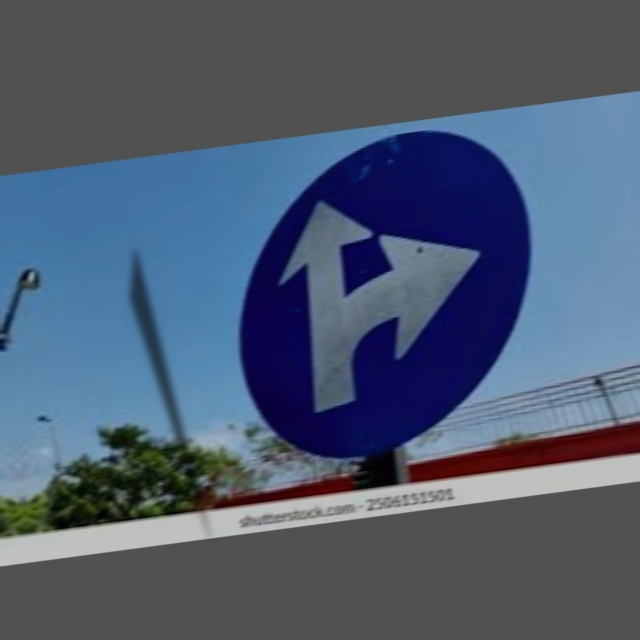Compulsory_Ahead_or_Turn_Right: (221, 131, 547, 475)
